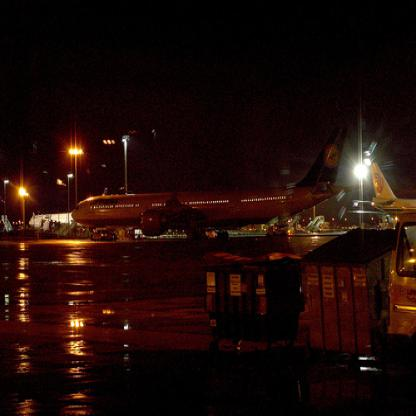aeroplane: (70, 131, 348, 241), (28, 188, 109, 232), (370, 161, 416, 220)
